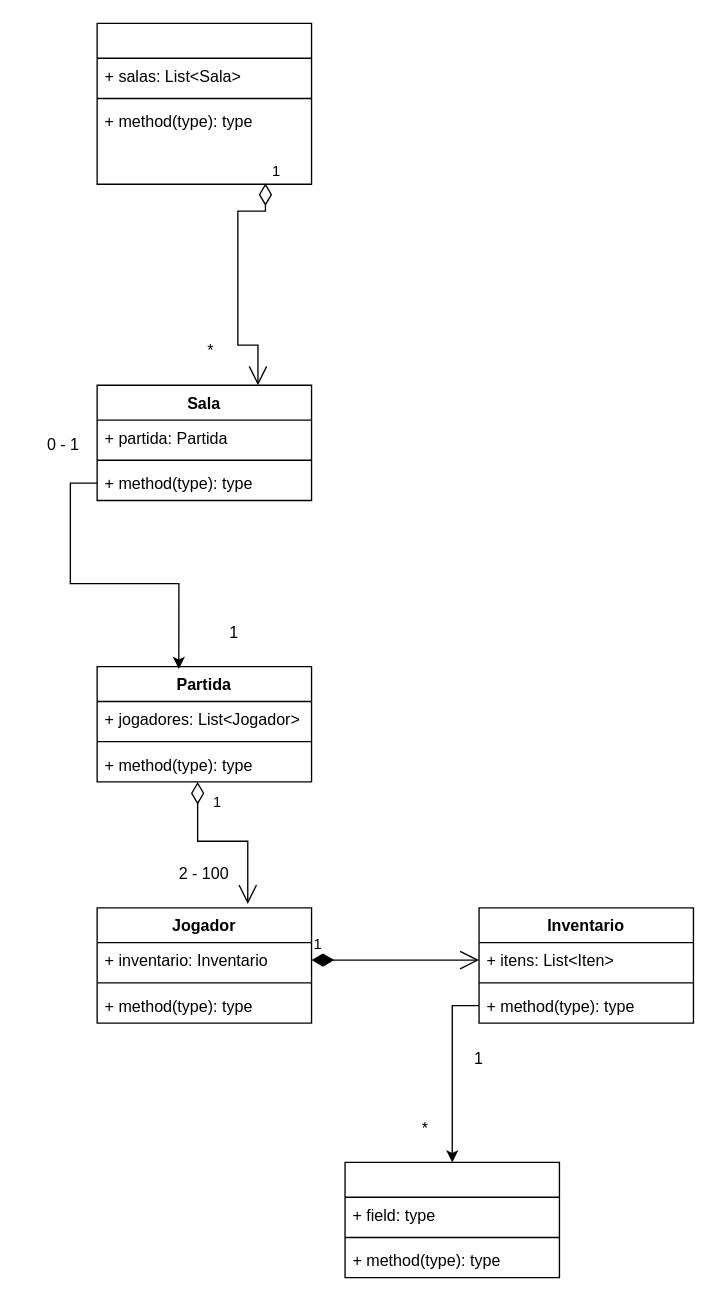
Some shapes in this 717 by 1305 pixel diagram are drawn without their labels. The box of each missing label's shape, as (x1, y1, x2, y2) in pixels:
Iten: (344, 1161, 559, 1278)
Servidor: (96, 22, 312, 184)
